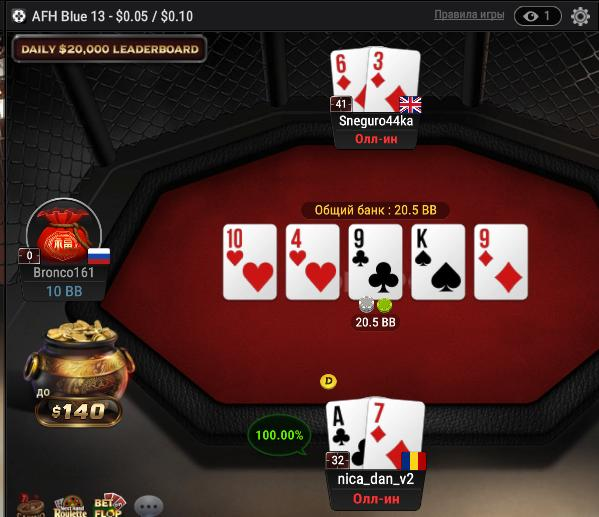10h: (223, 224, 275, 299)
3d: (368, 46, 418, 113)
4h: (286, 226, 338, 299)
6d: (330, 49, 369, 112)
7d: (367, 399, 425, 471)
9c: (350, 224, 401, 298)
9d: (475, 225, 528, 299)
Ac: (324, 402, 367, 468)
Ks: (411, 226, 463, 297)
